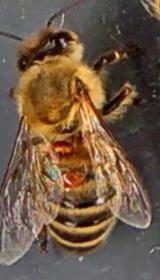varroa_mite: (54, 163, 88, 190), (43, 136, 78, 162)
